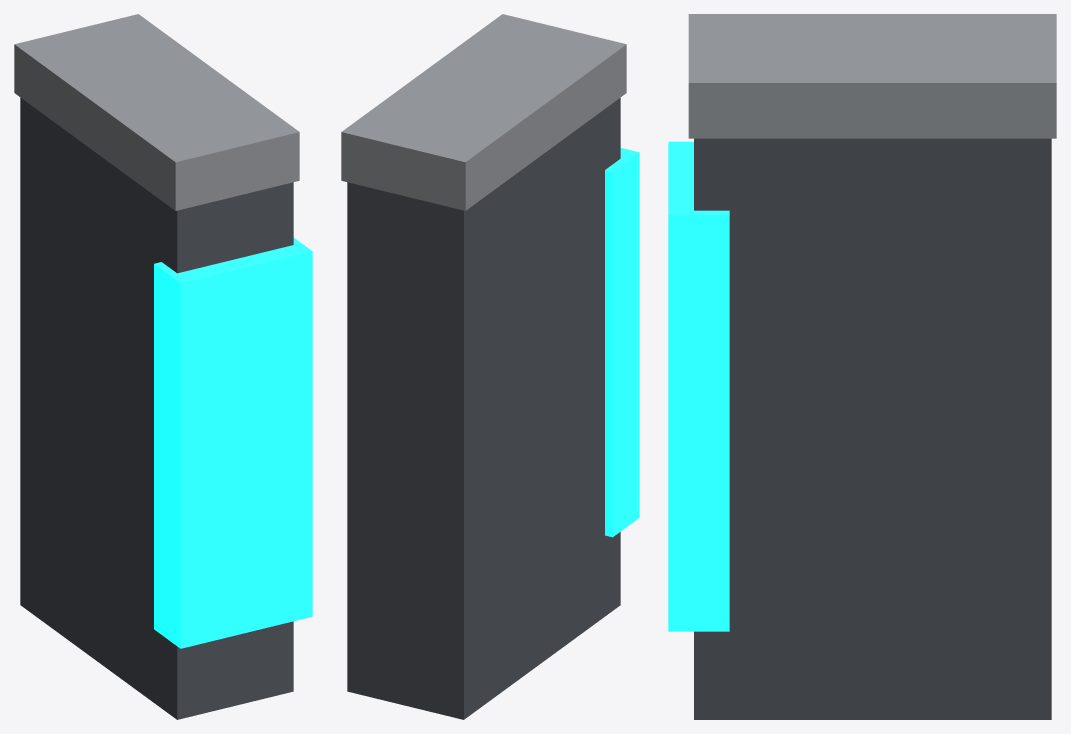
The model's file is mag_laser.glb.
3 views of the same model, side by side, from view 1: azimuth 30°, elevation 25°; view 2: azimuth 150°, elevation 25°; view 3: azimuth 270°, elevation 25° (orthographic). The views are drawn at different scales.
Parts seen in each view (by area): view 1: mag_laser.body, mag_laser.glow, mag_laser.cap; view 2: mag_laser.body, mag_laser.cap, mag_laser.glow; view 3: mag_laser.body, mag_laser.cap, mag_laser.glow.
Part boxes in pixels (x1,y1,x2,y2): mag_laser.body: (20,97,293,719); mag_laser.glow: (154,238,312,648); mag_laser.cap: (14,14,299,210); mag_laser.body: (347,98,620,719); mag_laser.cap: (341,14,626,210); mag_laser.glow: (605,148,639,537); mag_laser.body: (694,138,1051,719); mag_laser.cap: (688,14,1056,138); mag_laser.glow: (668,141,729,631).
Bounding box in the file's own units: 0.034 × 0.138 × 0.076.
